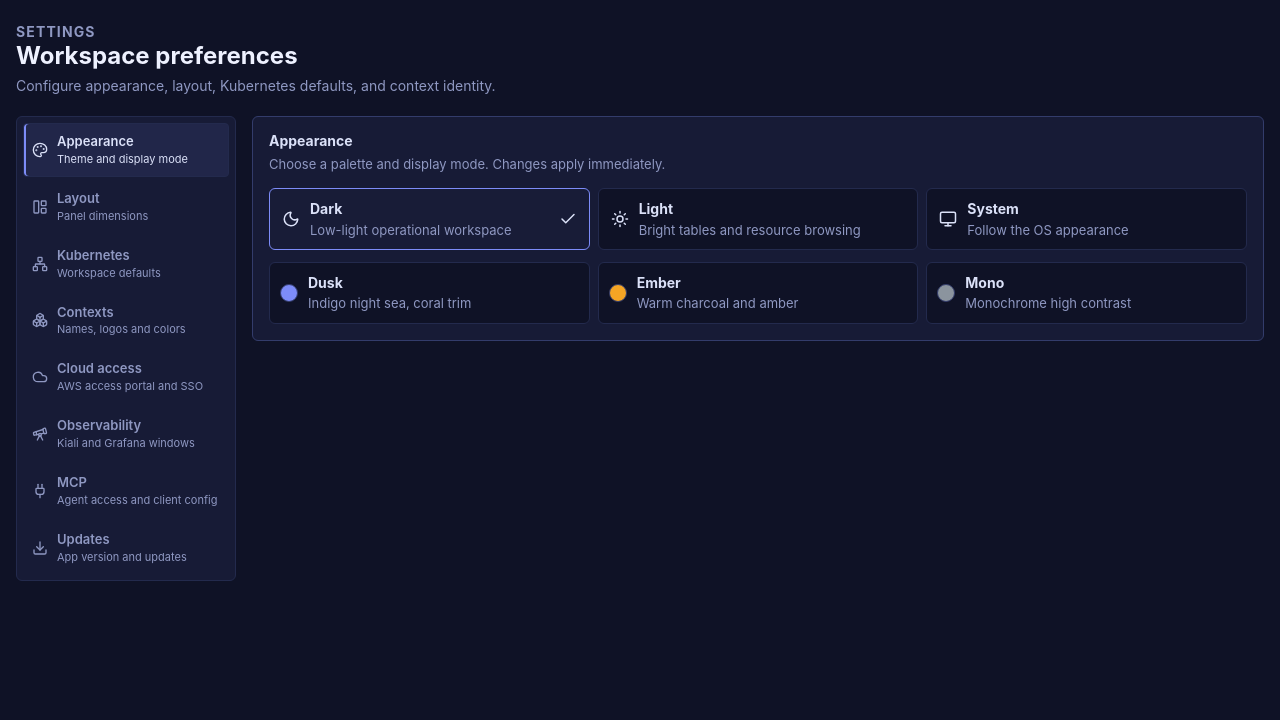
Test: SettingsView › surfaces update check failures
Click the button "Updates App version and updates": (126, 548) [23,521,229,574]
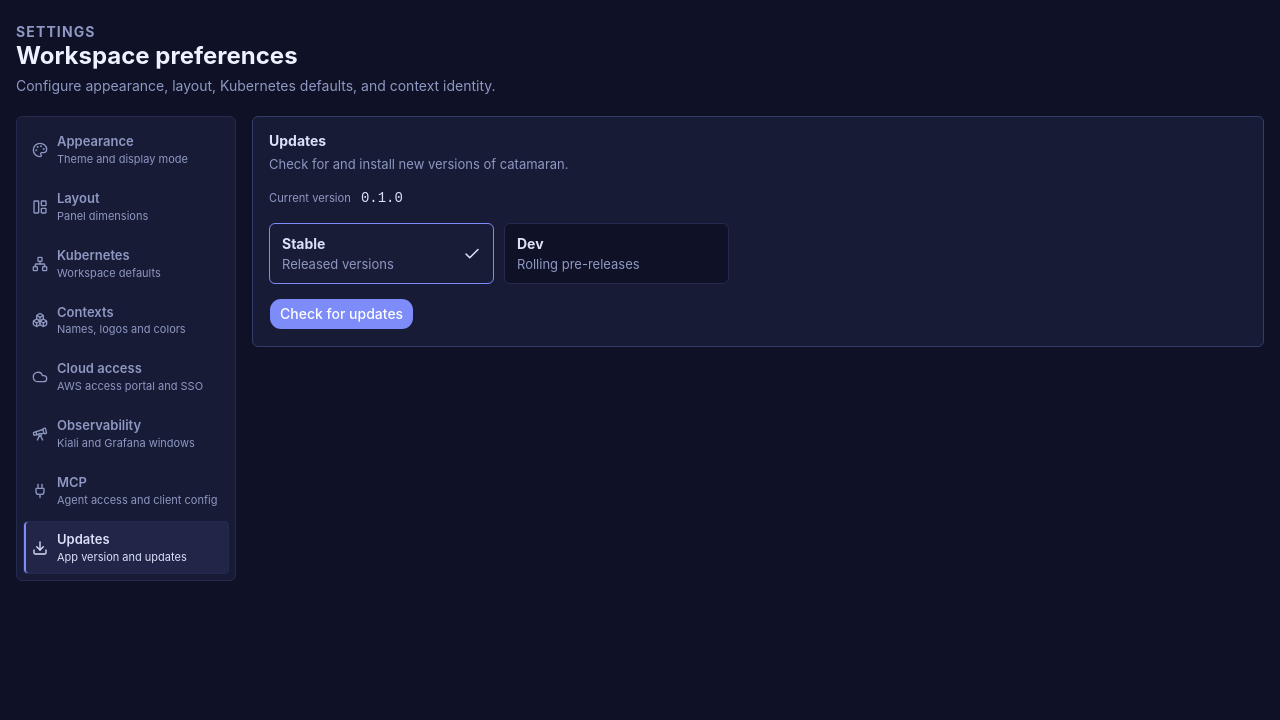
Click the button "Check for updates": (342, 314) [269,298,414,330]
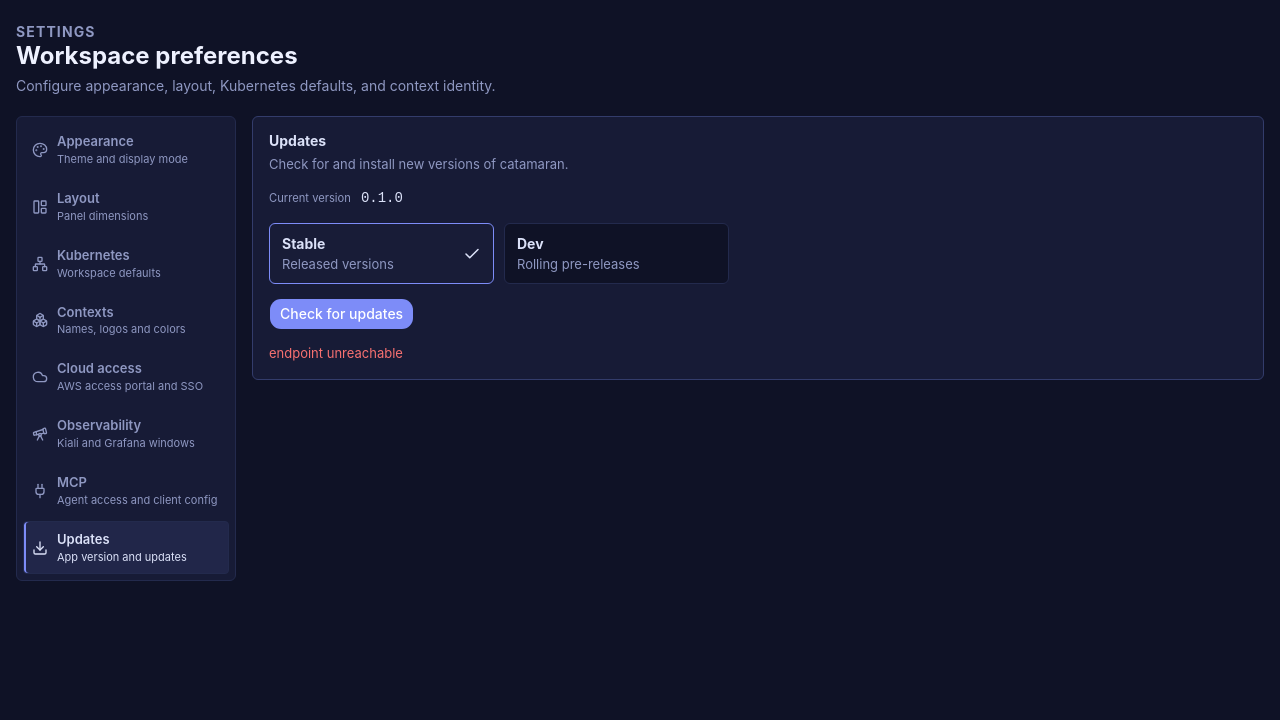
Check: the text "endpoint unreachable" is shown, box [269,344,403,363]
